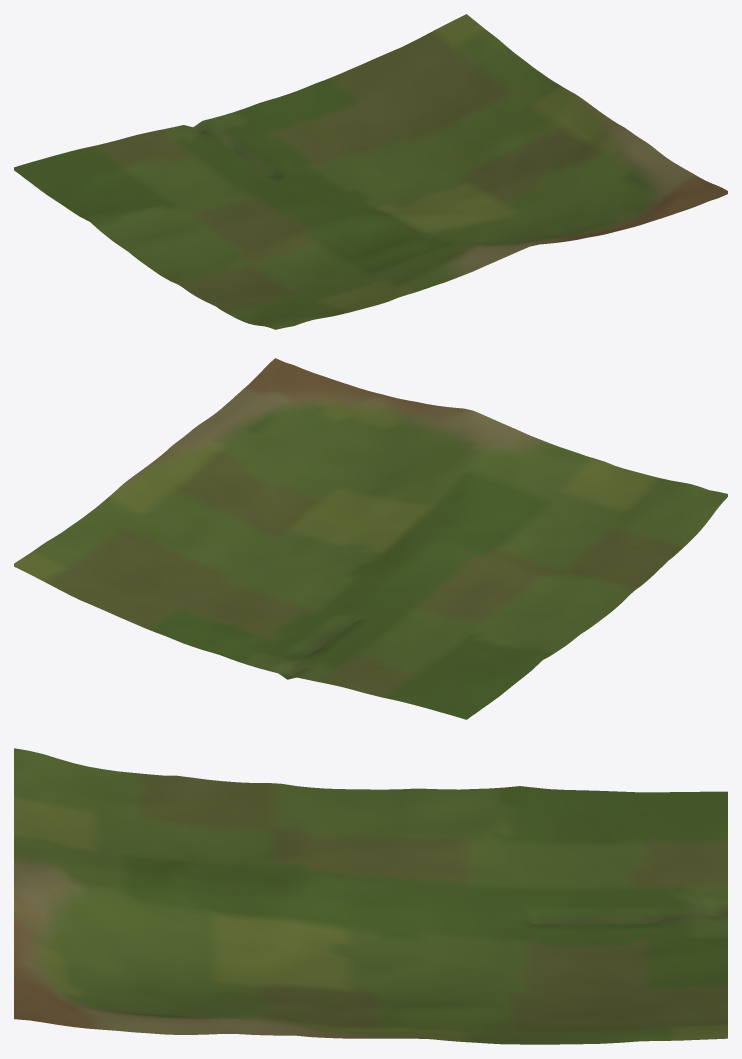
Rendered from land_m_08_08.glb.
3 renders of one model, top to bottom at view 1: azimuth 30°, elevation 25°; view 2: azimuth 150°, elevation 25°; view 3: azimuth 270°, elevation 25°, orthographic. The views are drawn at different scales.
Visible parts, largest first — view 1: land_m_08_08; view 2: land_m_08_08; view 3: land_m_08_08.
Part boxes in pixels (box(x1,y1,x2,y2)): land_m_08_08: box(14, 14, 727, 329); land_m_08_08: box(14, 358, 727, 719); land_m_08_08: box(14, 748, 727, 1044).
Size of the model in its own units: 960 by 129 by 960.
